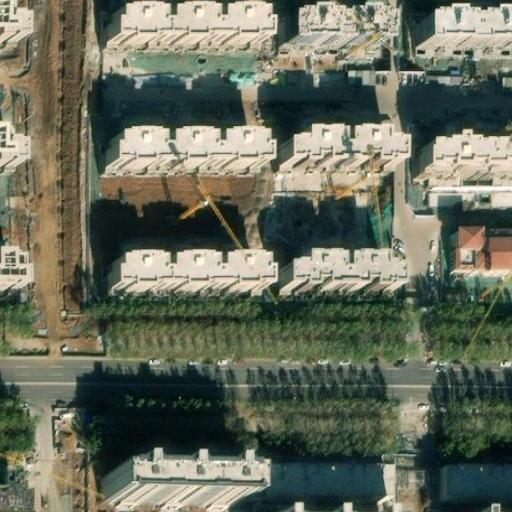building: (246, 467, 390, 502), (111, 464, 246, 501), (103, 260, 262, 291), (103, 136, 261, 167), (104, 13, 263, 43), (277, 259, 389, 295), (278, 136, 389, 171), (284, 12, 382, 44), (420, 13, 512, 46), (420, 141, 512, 170), (455, 225, 512, 268), (441, 474, 512, 503), (0, 10, 20, 46), (0, 133, 17, 175), (0, 261, 17, 297)
